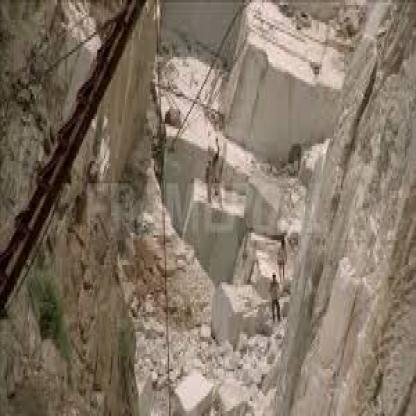Metamorphic_Marble: (228, 3, 350, 154), (176, 161, 241, 265)
